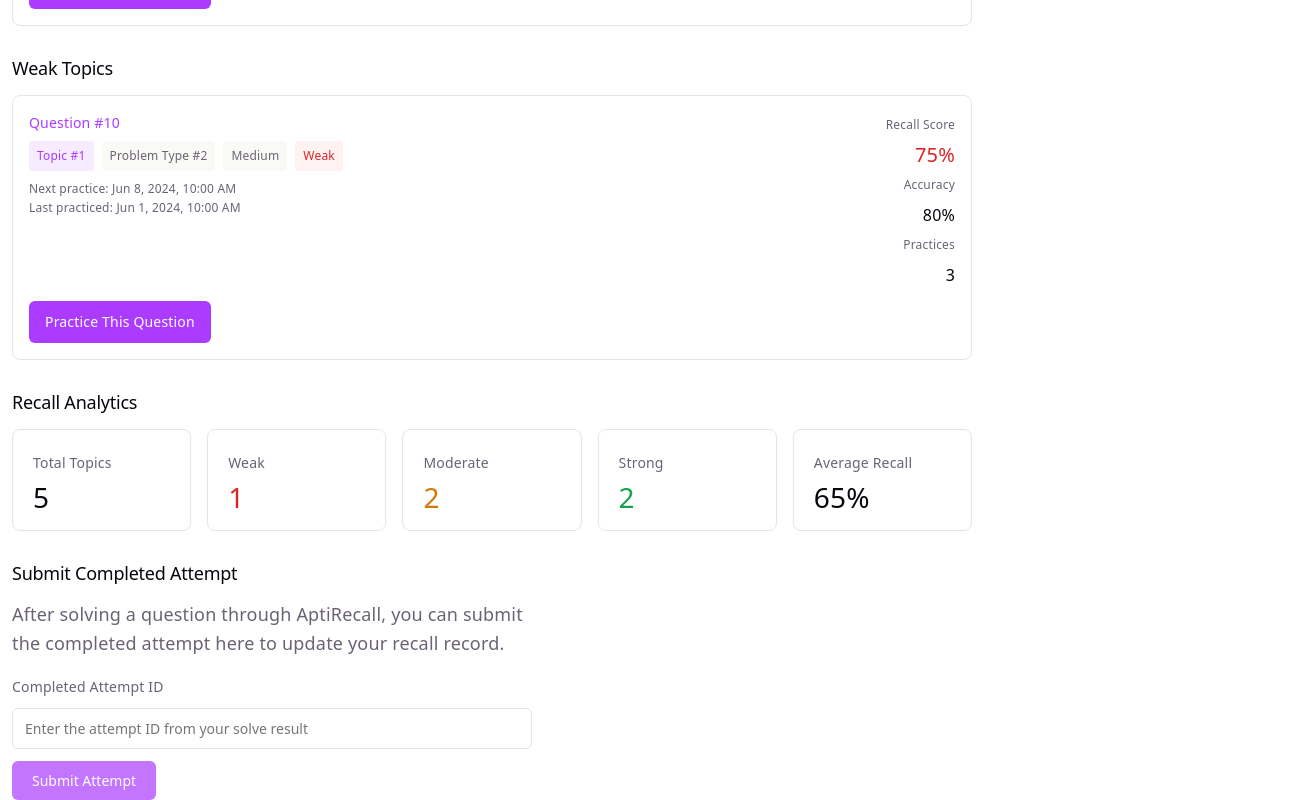
Recall › submits recall attempt successfully
(page scrolled)
Type "5" into the number field labelled "Completed Attempt ID".
click(272, 728); type("5")  # box left=12, top=708, right=532, bottom=749
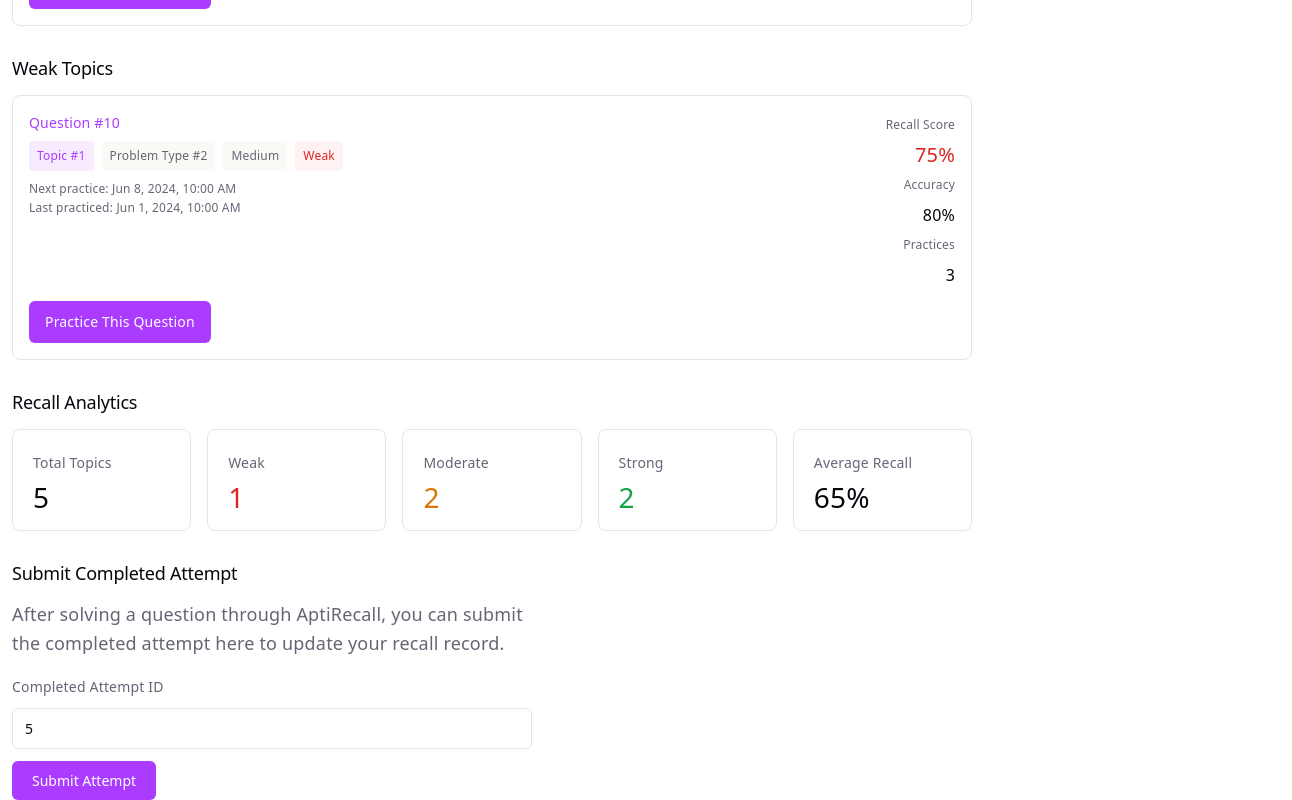
Click the button "Submit Attempt".
click(84, 780)  # box left=12, top=761, right=156, bottom=799
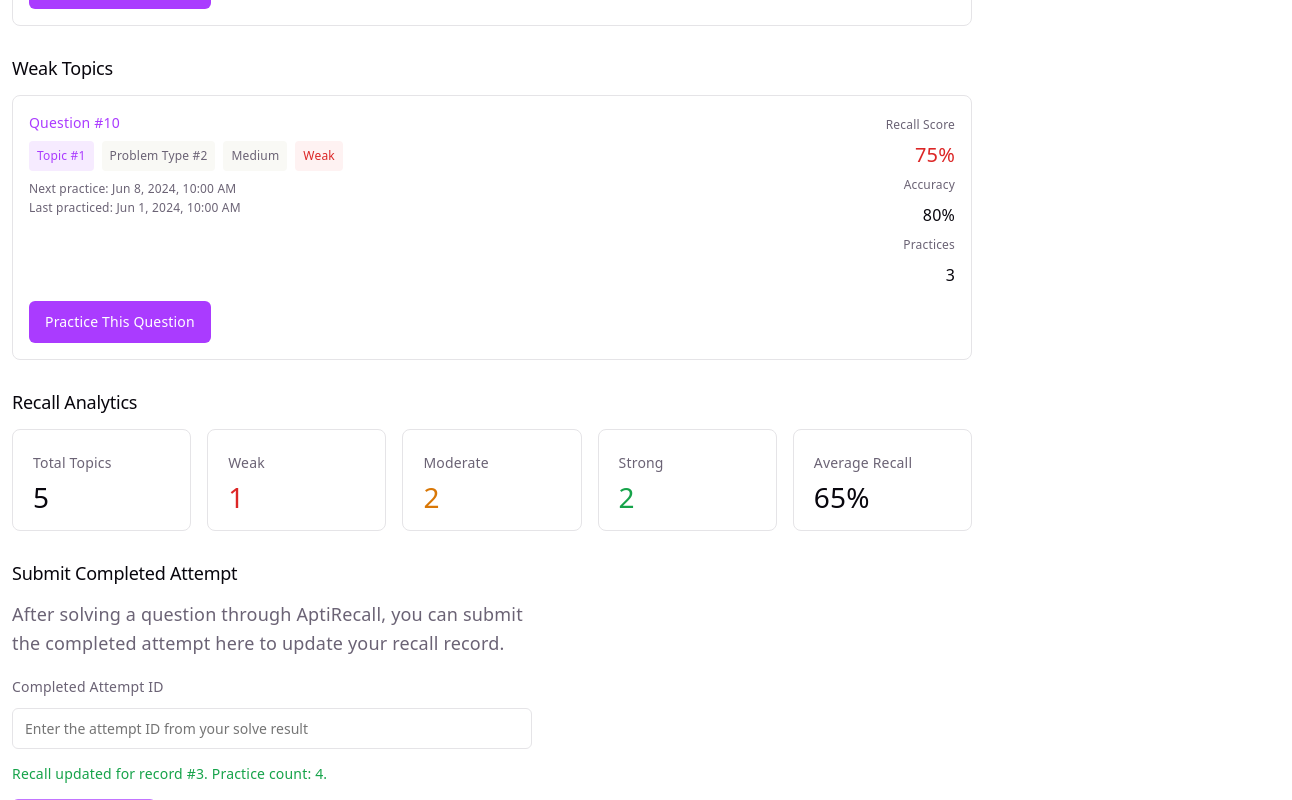
Now the text "Recall updated for record #3. Practice count: 4." is shown, box left=12, top=764, right=327, bottom=783
